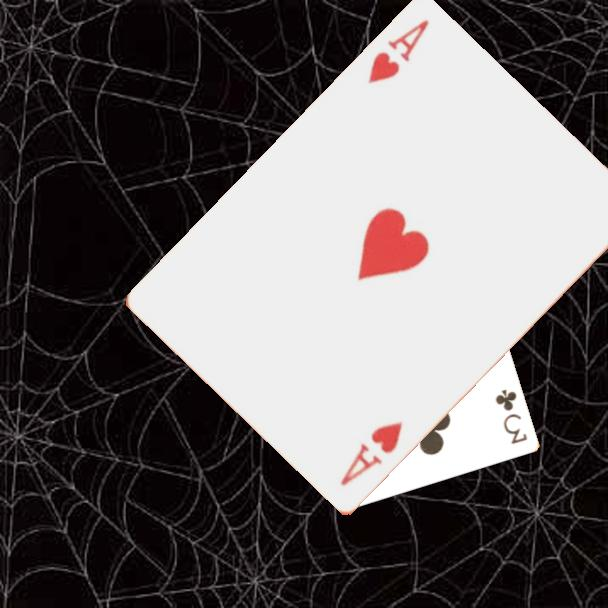c03: (492, 386, 531, 448)
h01: (337, 419, 406, 490), (364, 16, 432, 88)
